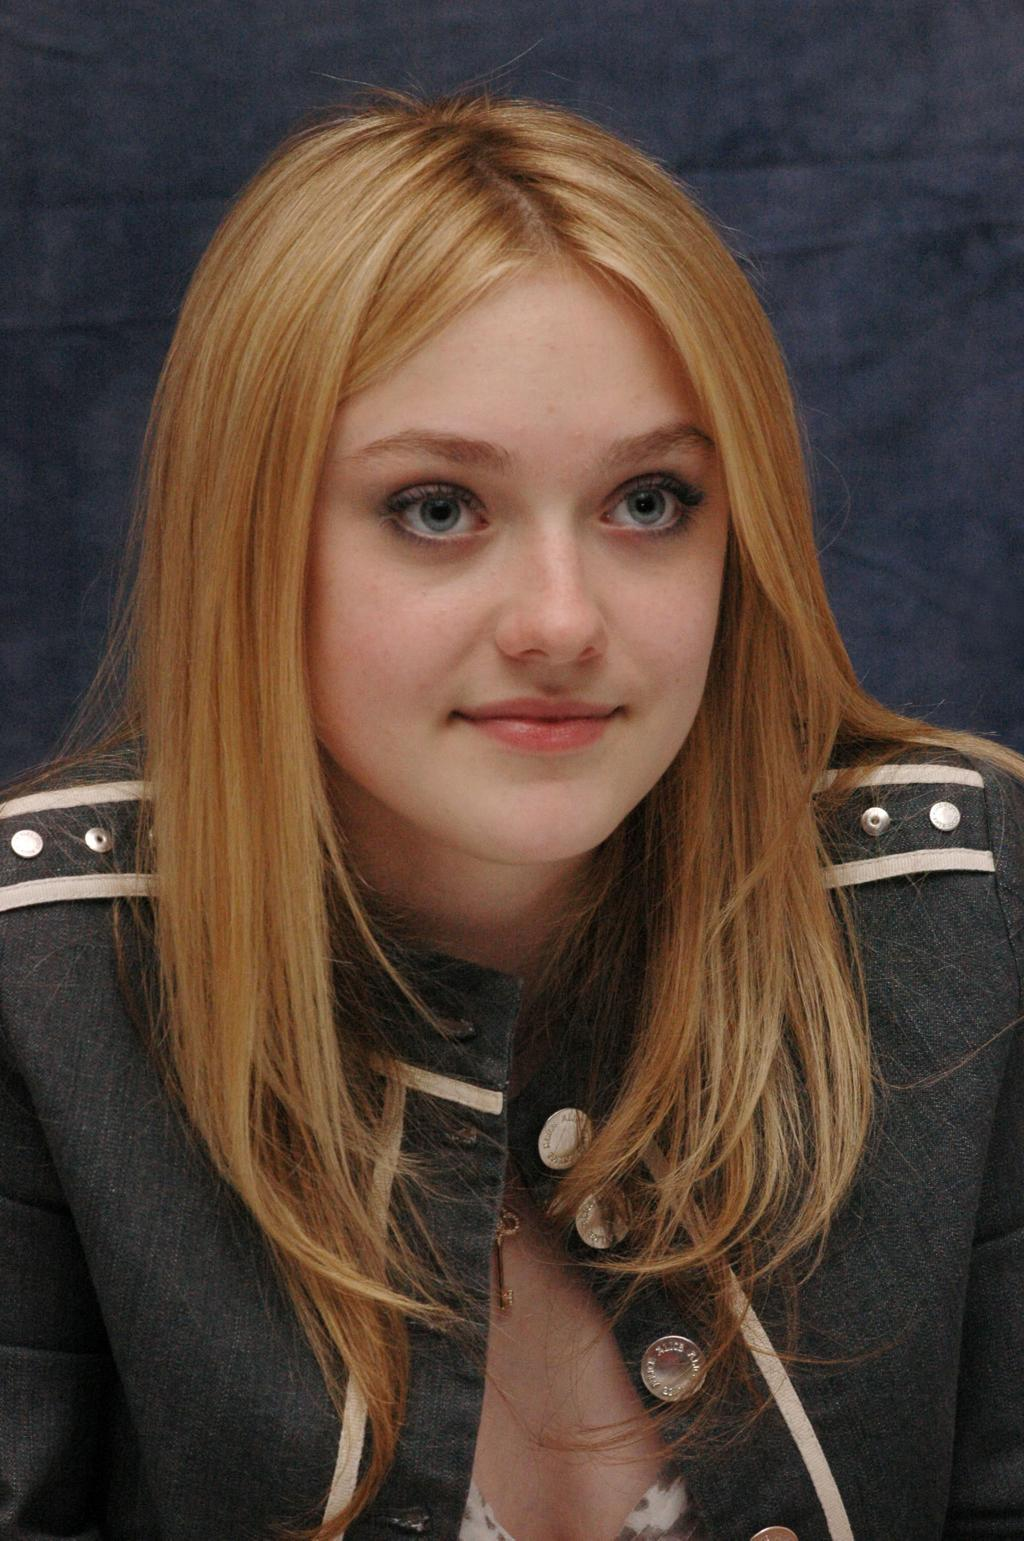face: (305, 266, 730, 859)
